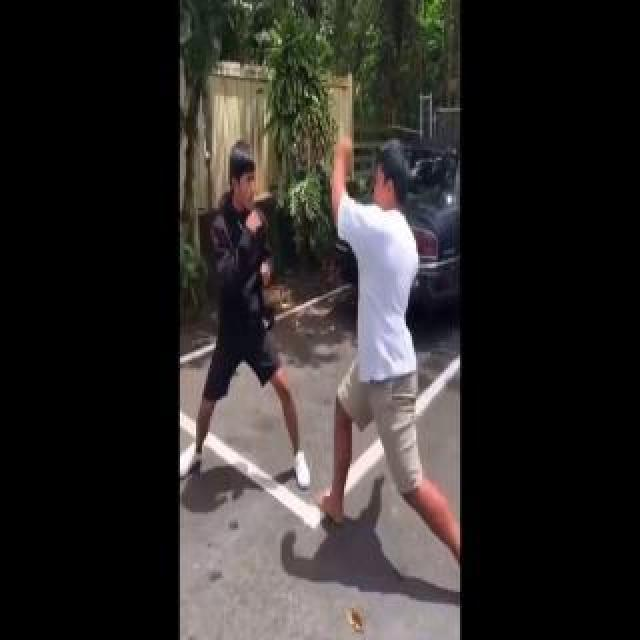fight: (197, 80, 517, 570)
